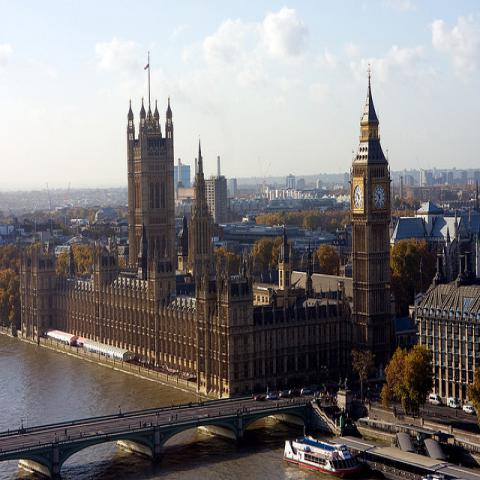car: (429, 394, 442, 406), (448, 398, 461, 410), (462, 405, 476, 414), (278, 390, 290, 398), (254, 394, 266, 401), (266, 393, 276, 400), (301, 388, 311, 394)
